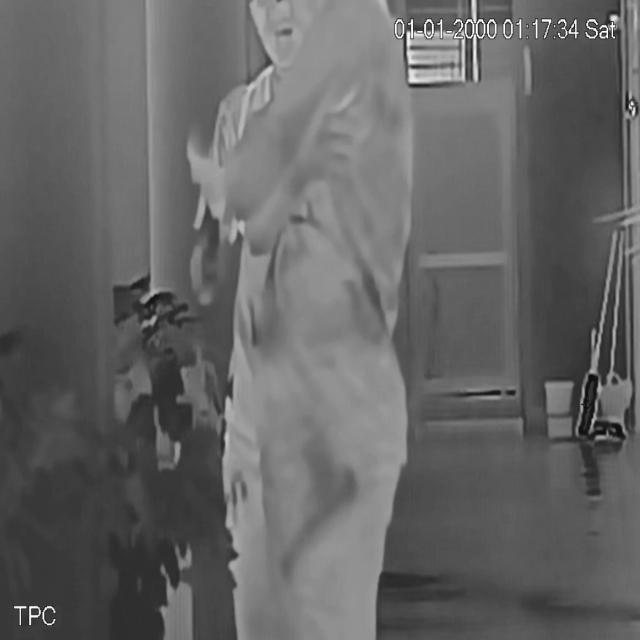Weapon: (277, 418, 359, 588)
